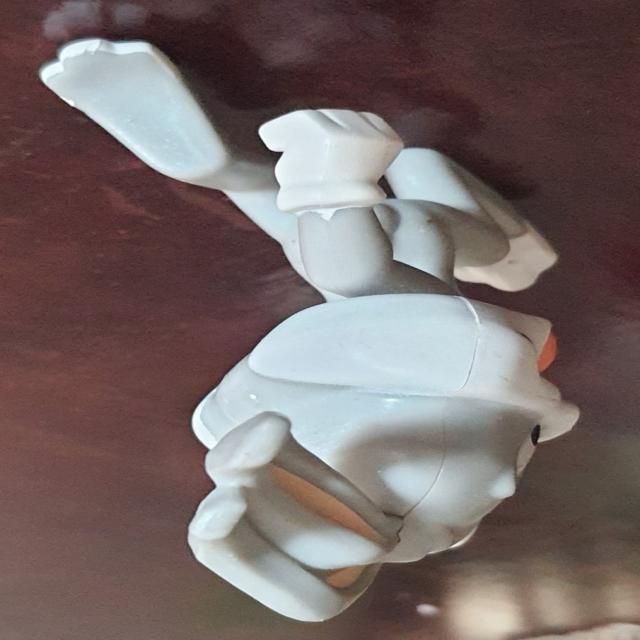Rabbit: (37, 37, 581, 624)
